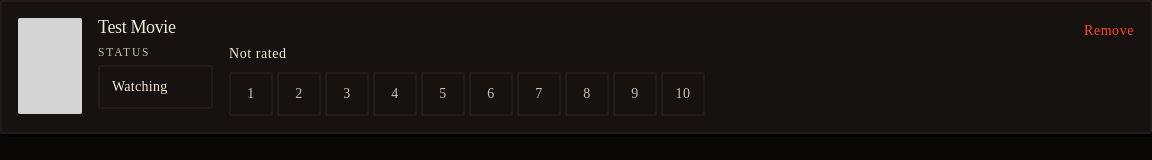
Test: LibraryItem › should show confirmation dialog when remove is clicked
Click the button "Remove": (1109, 31) [1084,21,1134,41]
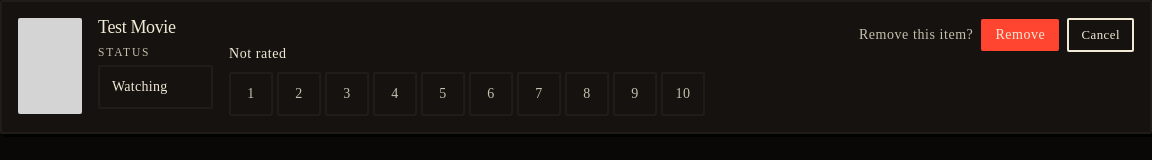
Result: the text "Remove this item?" is shown at [859,25,973,45]
Result: the button "Cancel" is shown at [1067,18,1134,52]
